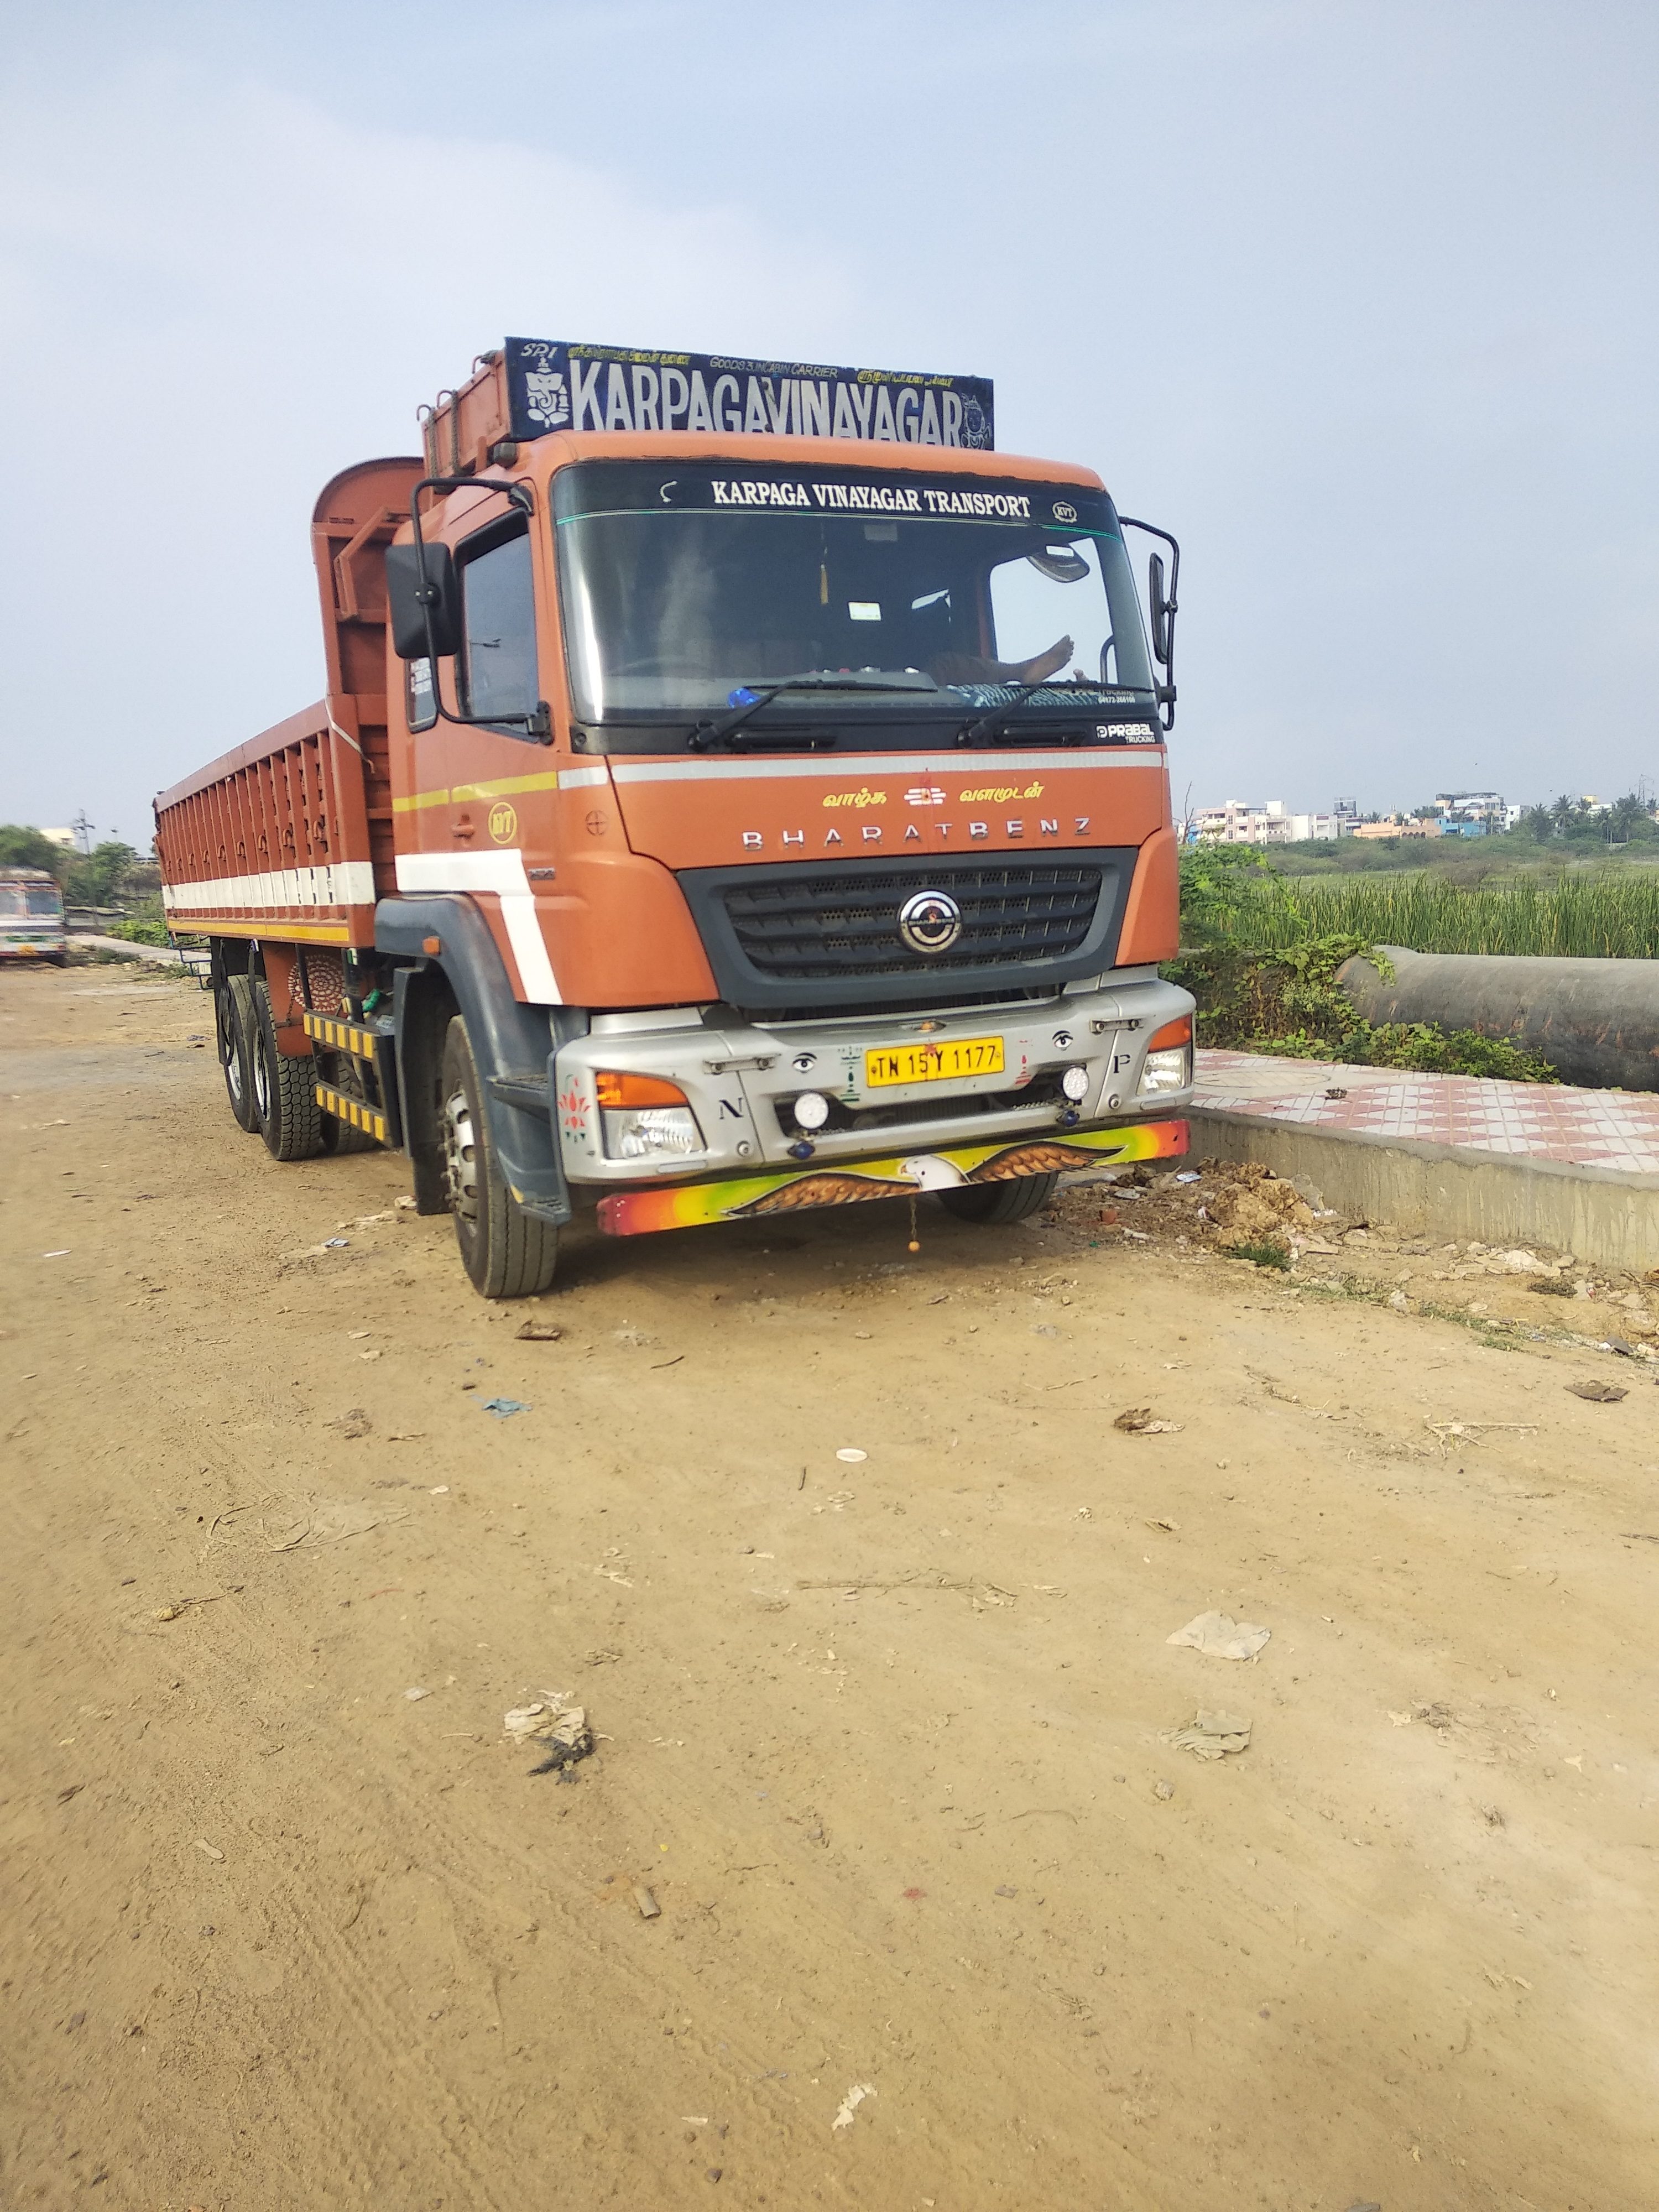truck: (150, 333, 1199, 1305), (0, 864, 70, 961)
